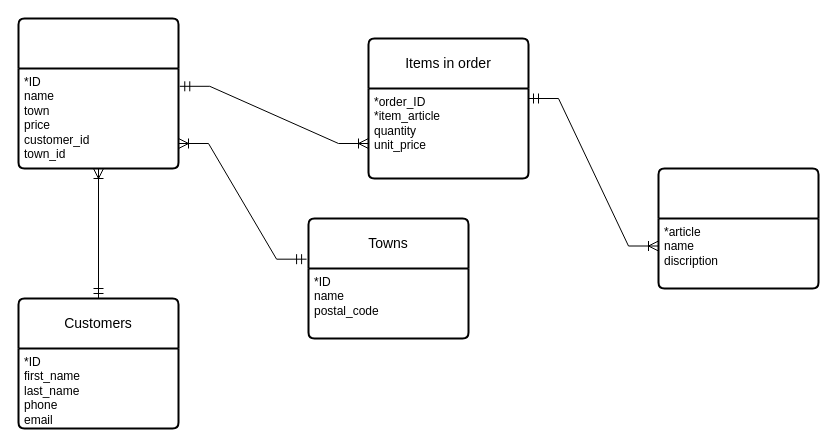
Image size: 836x446. Some labels were removed from this diagram. The box of each missing label's shape, as (x1, y1, x2, y2) in pixels:
Items: (657, 167, 819, 289)
Orders: (17, 17, 179, 169)
